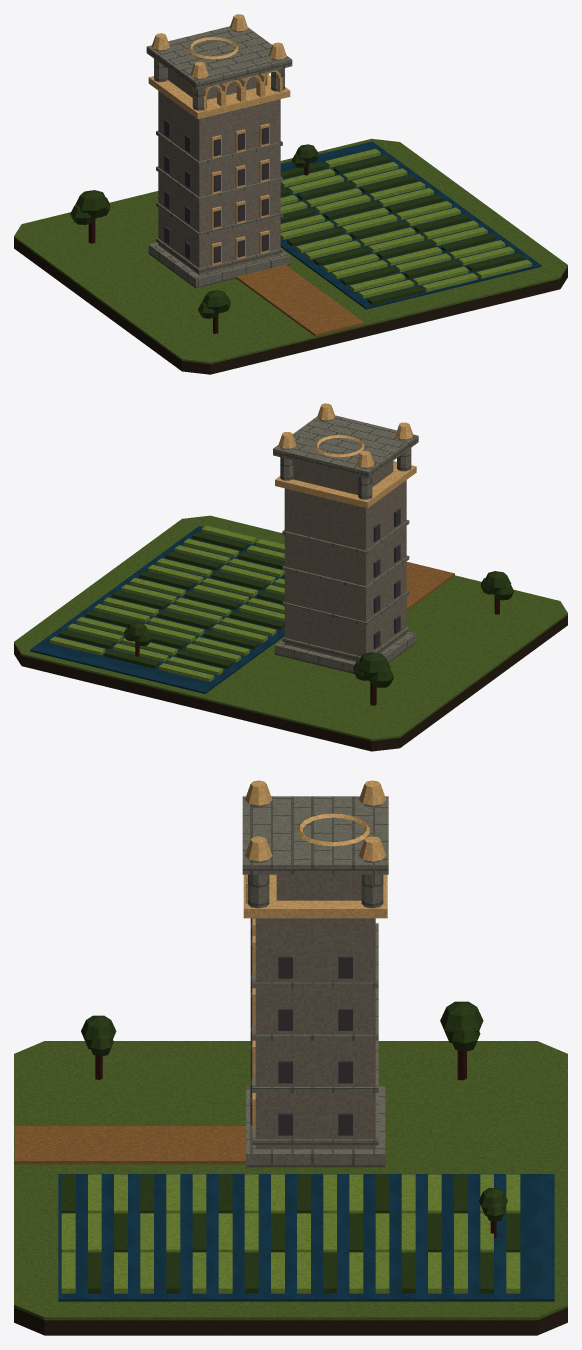
The model's file is kaiping-diaolou.glb.
3 views of the same model, one above another, from view 1: azimuth 30°, elevation 25°; view 2: azimuth 150°, elevation 25°; view 3: azimuth 270°, elevation 25° (orthographic). The views are drawn at different scales.
Visible parts, largest first — view 1: 开平碉楼; view 2: 开平碉楼; view 3: 开平碉楼.
Boxes of the visible parts, box(x1,y1,x2,y2) form: 开平碉楼: box(14, 14, 567, 374); 开平碉楼: box(14, 403, 567, 751); 开平碉楼: box(14, 780, 567, 1335).
Size of the model in its own units: 8.5 by 4.88 by 7.2.
Materials: 11 (10 with a texture image).
